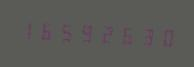five: (57, 17, 76, 45)
nine: (77, 18, 96, 46)
one: (17, 15, 36, 43)
six: (37, 16, 56, 44), (117, 21, 136, 49)
three: (137, 22, 156, 50)
two: (97, 20, 116, 47)
zero: (157, 23, 176, 51)
